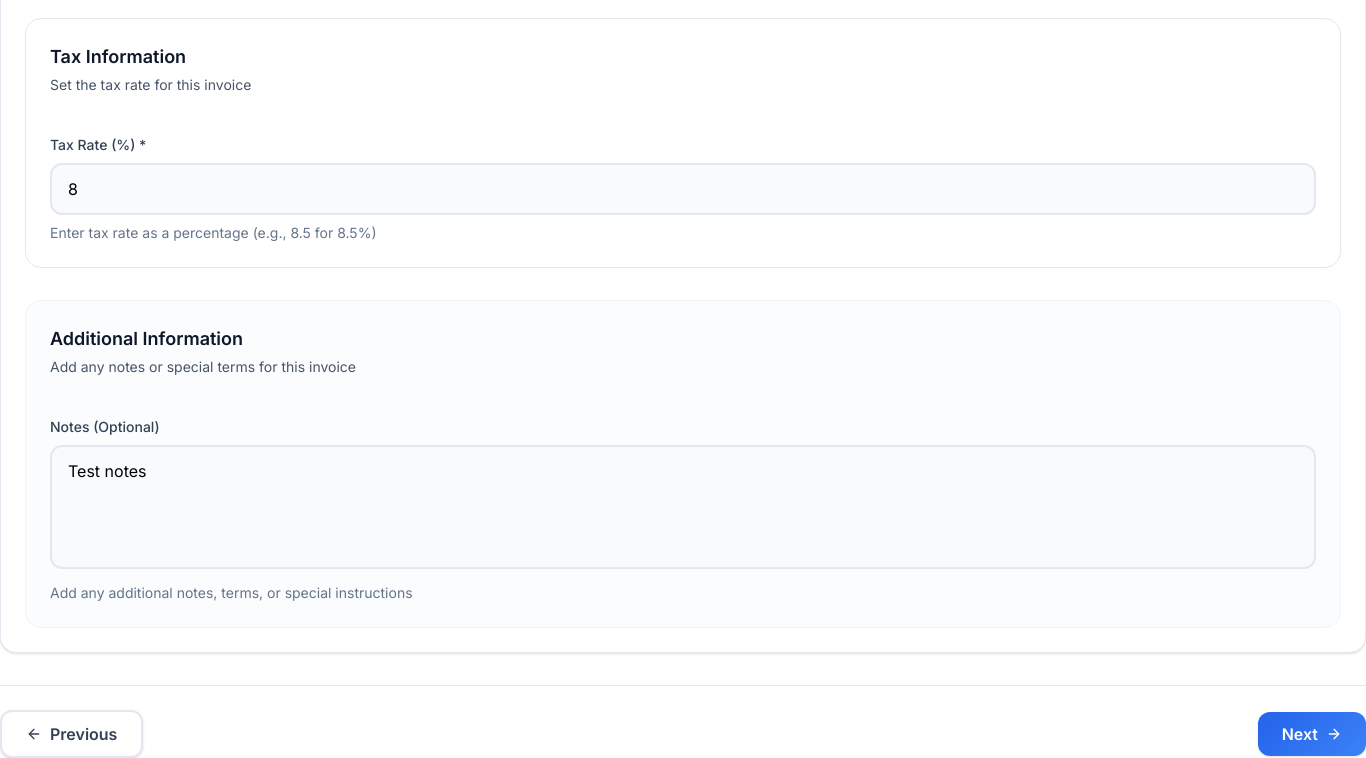
Scenario: InvoiceBuilder - Update Invoice Functionality › Navigation › should preserve form data when navigating between steps
This screenshot has width=1366, height=758.
(page scrolled)
Replace the text in the text box with placeholder "Add any additional notes or terms for this invoice..." with "Modified notes" at point(683, 507), box [50,445,1316,569]
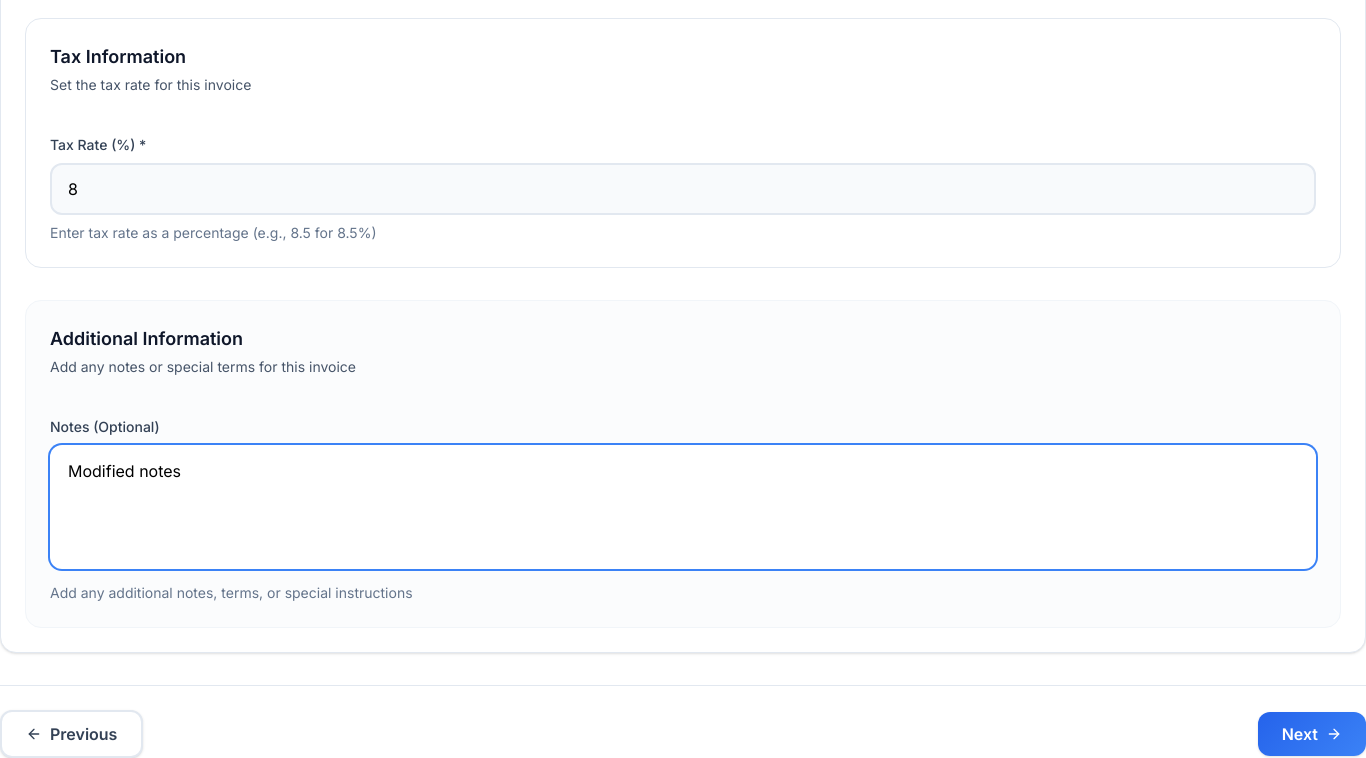
Note: Navigate to items step
Click the button "Next" at point(1312, 734), box [1258,712,1365,756]
(page scrolled)
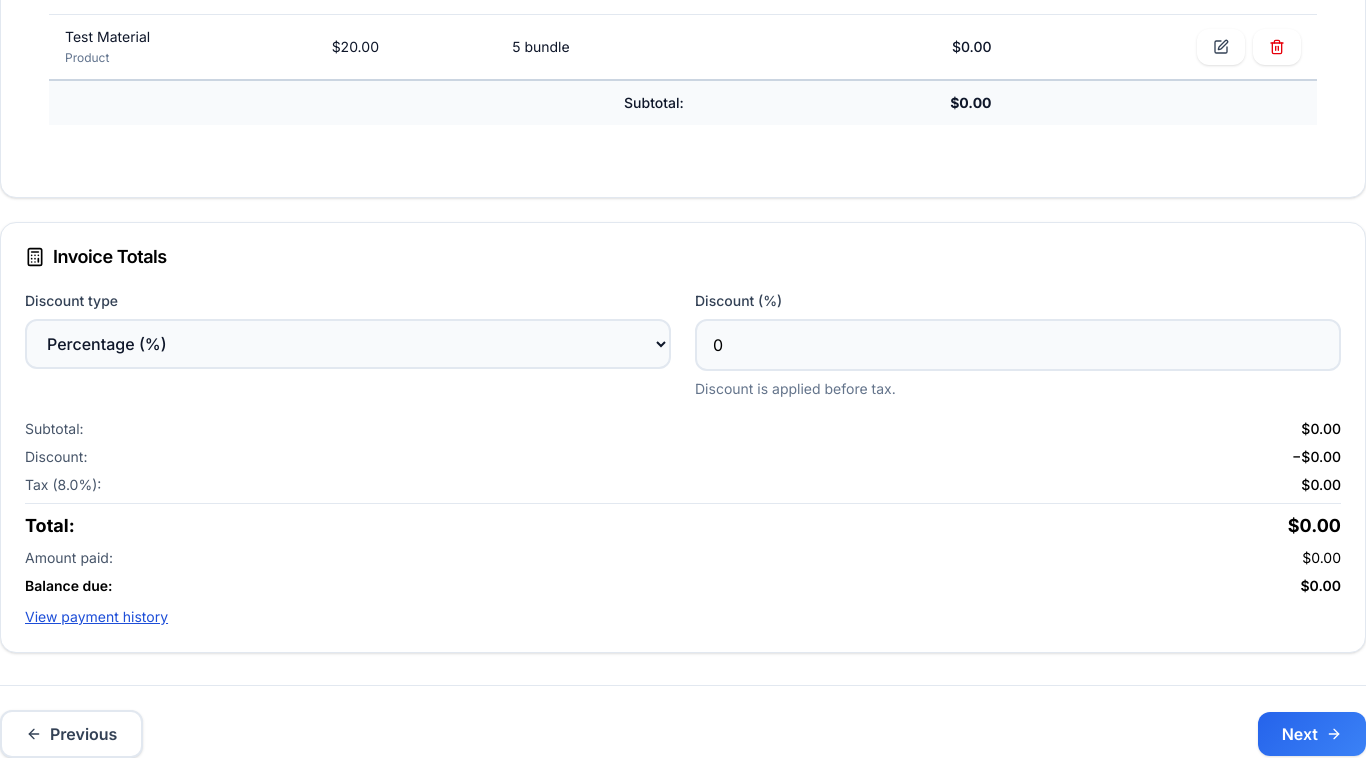
Note: Navigate back to details
Click the button "Previous" at point(72, 734), box [0,710,143,757]
(page scrolled)
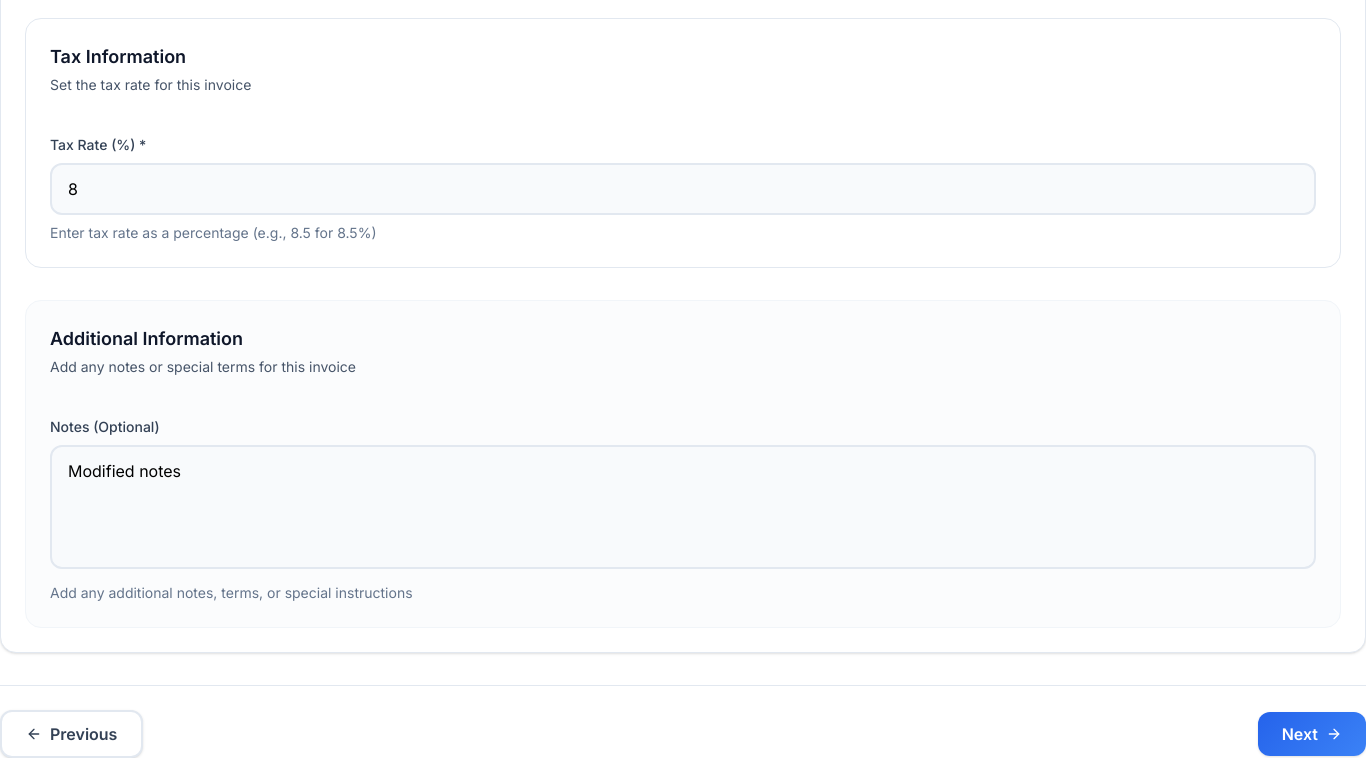
Expected: the text box with placeholder "Add any additional notes or terms for this invoice..." holds "Modified notes", [50,445,1316,569]
